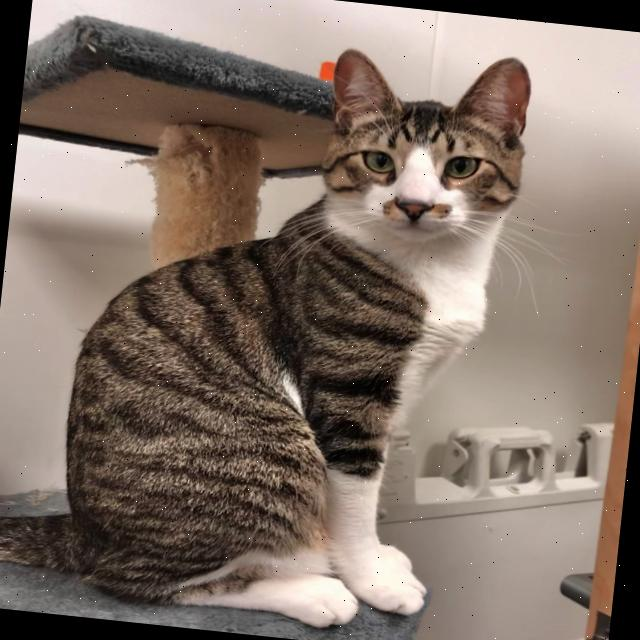american_shorthair_cat: (299, 29, 549, 268)
